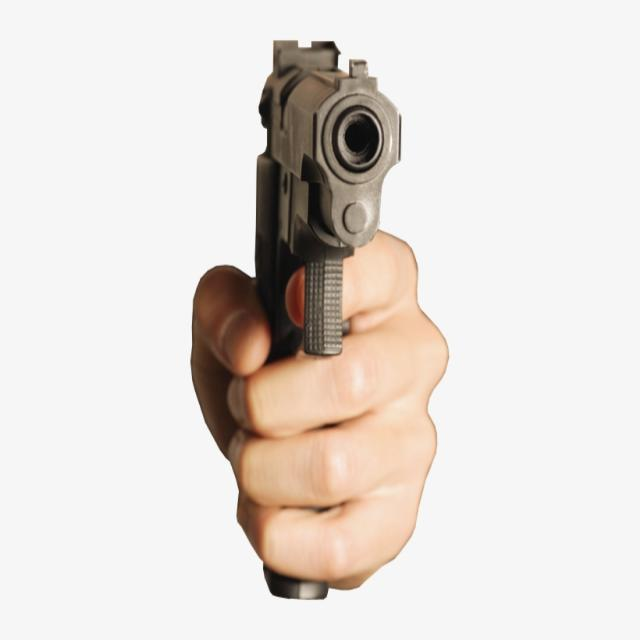HandGun: (256, 40, 405, 365)
